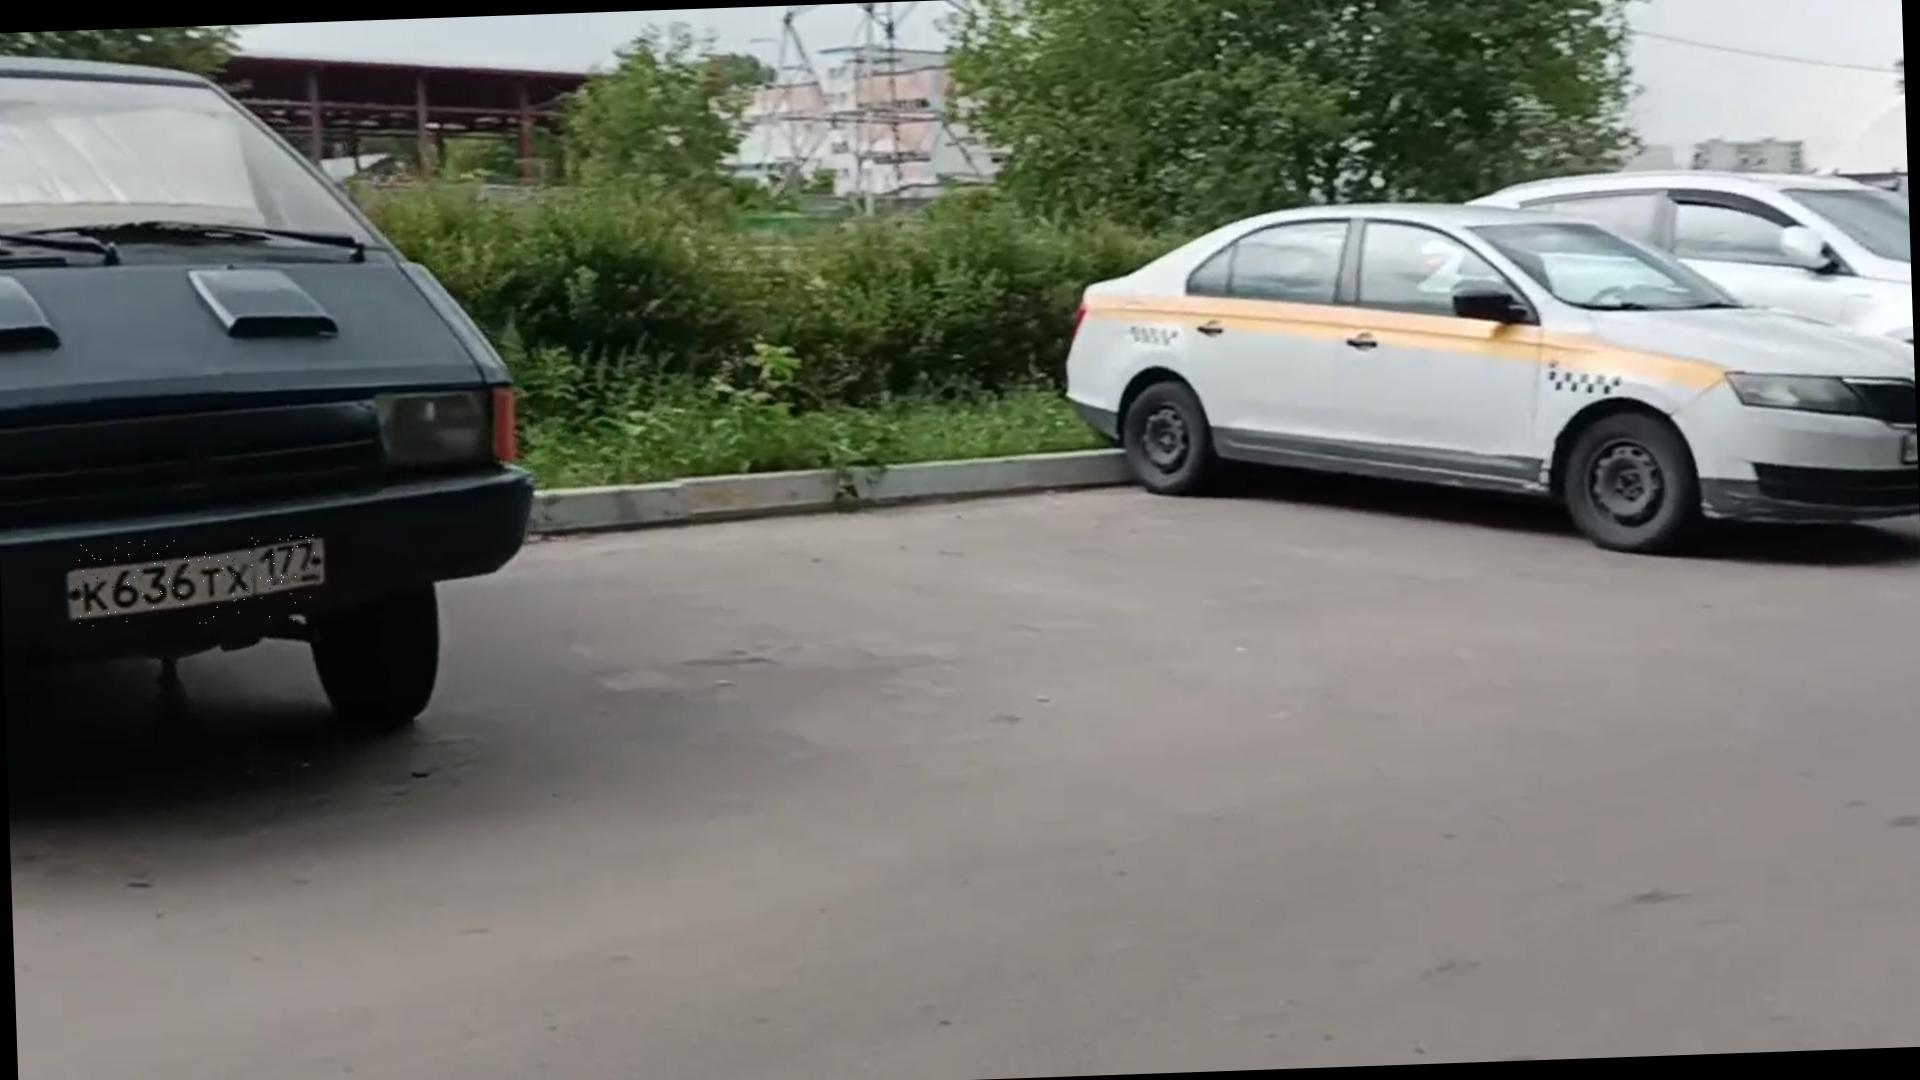plate: (76, 537, 320, 631)
